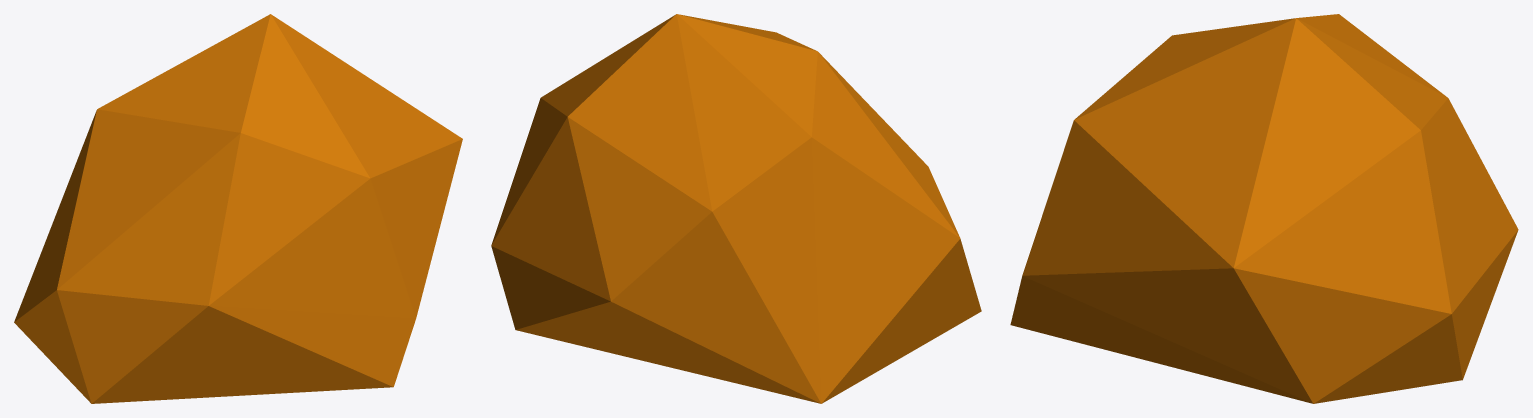
File: Rock_03.fbx
The picture shows the model from 3 angles, left to right: view 1: azimuth 30°, elevation 25°; view 2: azimuth 150°, elevation 25°; view 3: azimuth 270°, elevation 25°; orthographic projection. The views are drawn at different scales.
Visible parts, largest first — view 1: Rock_03; view 2: Rock_03; view 3: Rock_03.
Part boxes in pixels (x1,y1,x2,y2): Rock_03: (14, 14, 462, 403); Rock_03: (491, 14, 981, 403); Rock_03: (1010, 14, 1518, 403).
Bounding box in the file's own units: 115 × 80.03 × 110.
